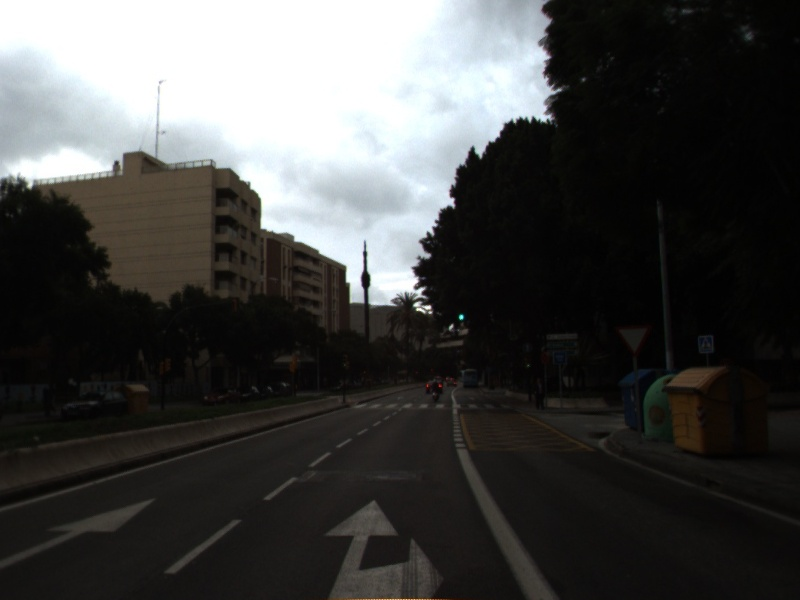STRAIGHT: (1, 494, 163, 569)
STRAIGHT_RIGHT: (320, 495, 449, 600)
